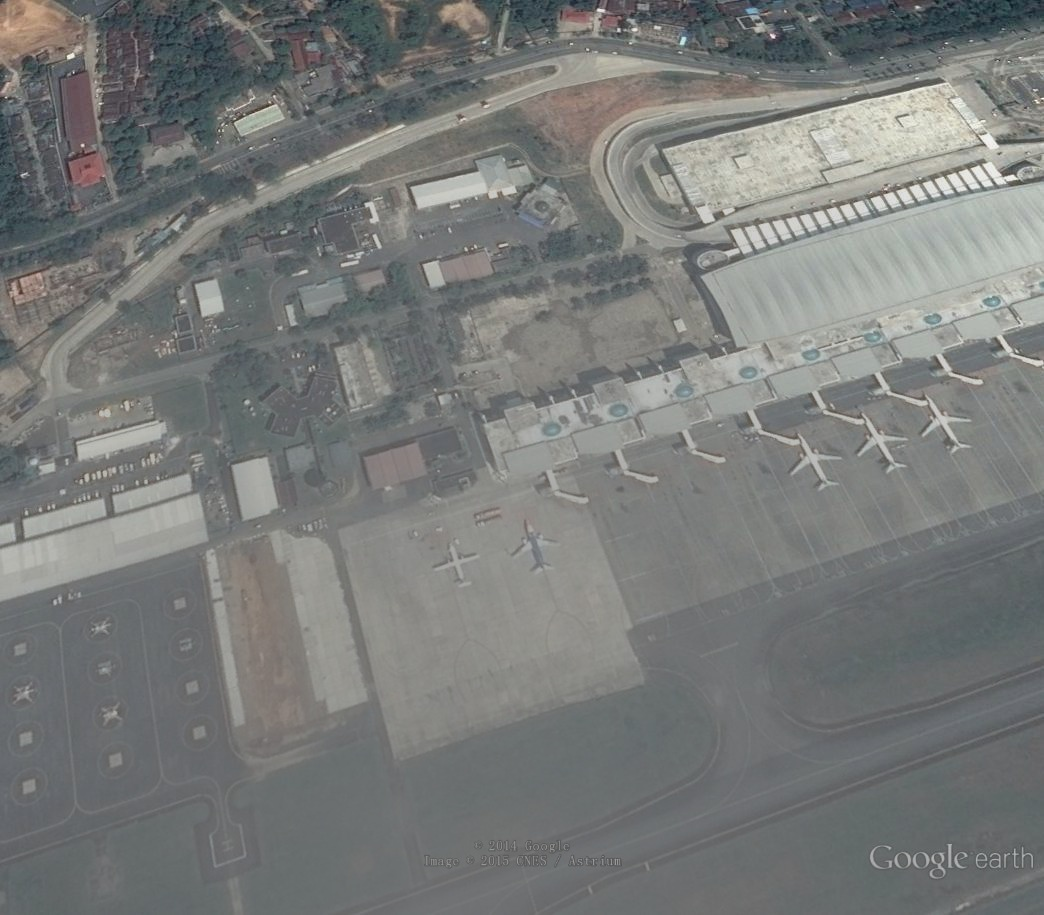aircraft: (785, 432, 848, 493), (853, 417, 913, 477), (918, 396, 976, 457), (508, 518, 565, 577), (434, 543, 482, 590)
